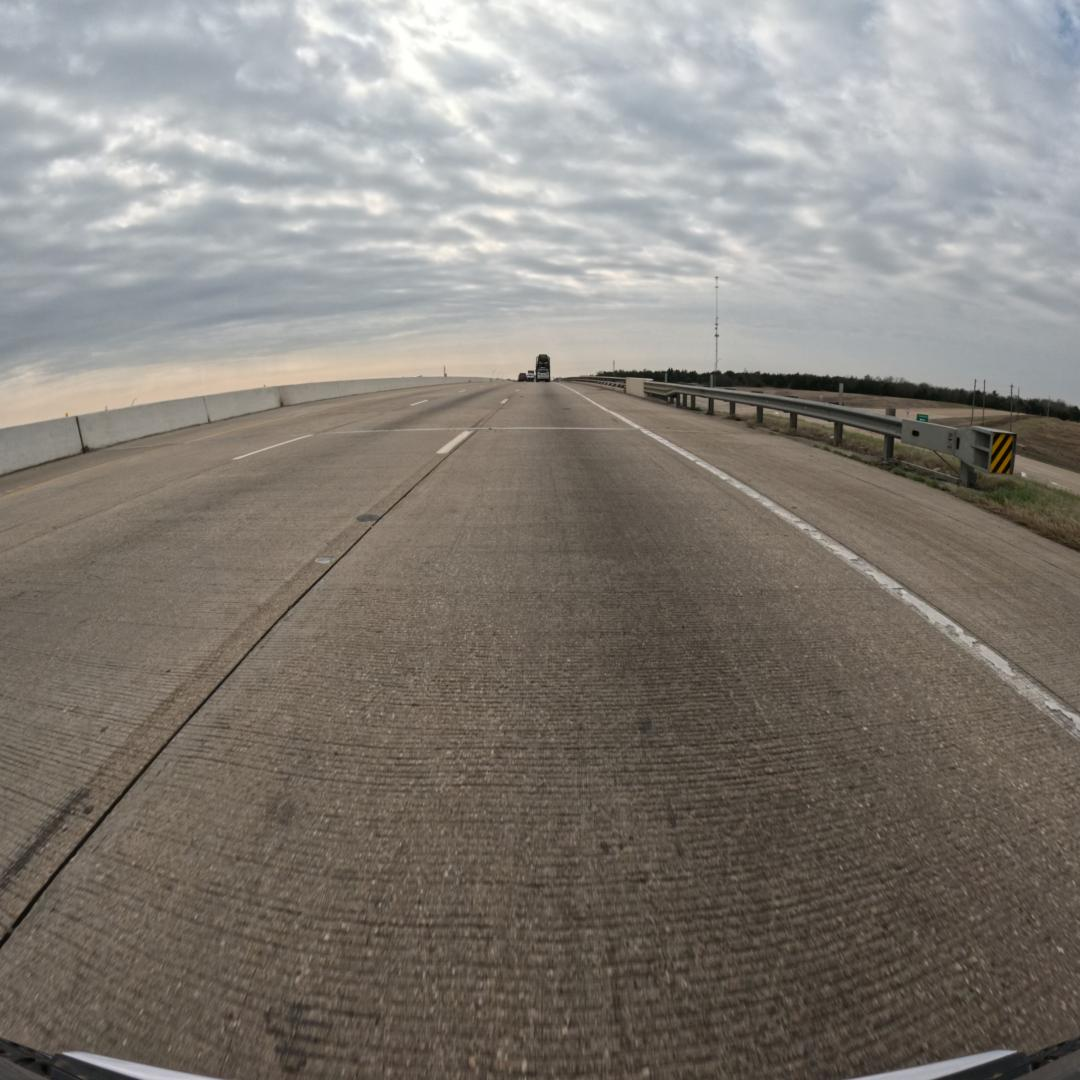lane0: (0, 387, 1080, 1077)
lane1: (0, 388, 515, 940)
